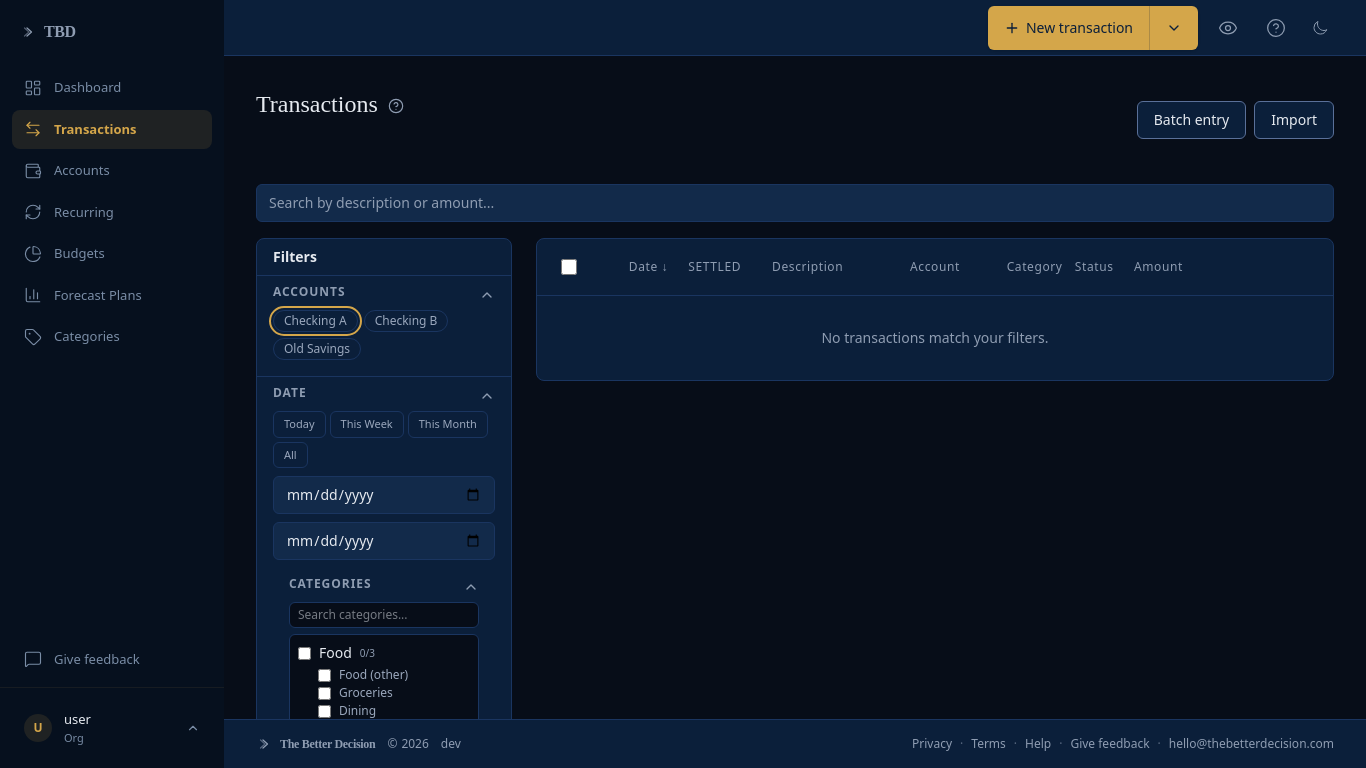
Test case: TransactionsPage — filter side panel (TBD-464) › keeps the panel mounted and focus on the control while the list refetches
The width and height of the screenshot is (1366, 768).
Expected: the checkbox named "Category Food" is shown, [298, 646, 311, 660]
Click the button with aria-label "Account Checking A".
click(315, 321)  # box [273, 310, 358, 332]
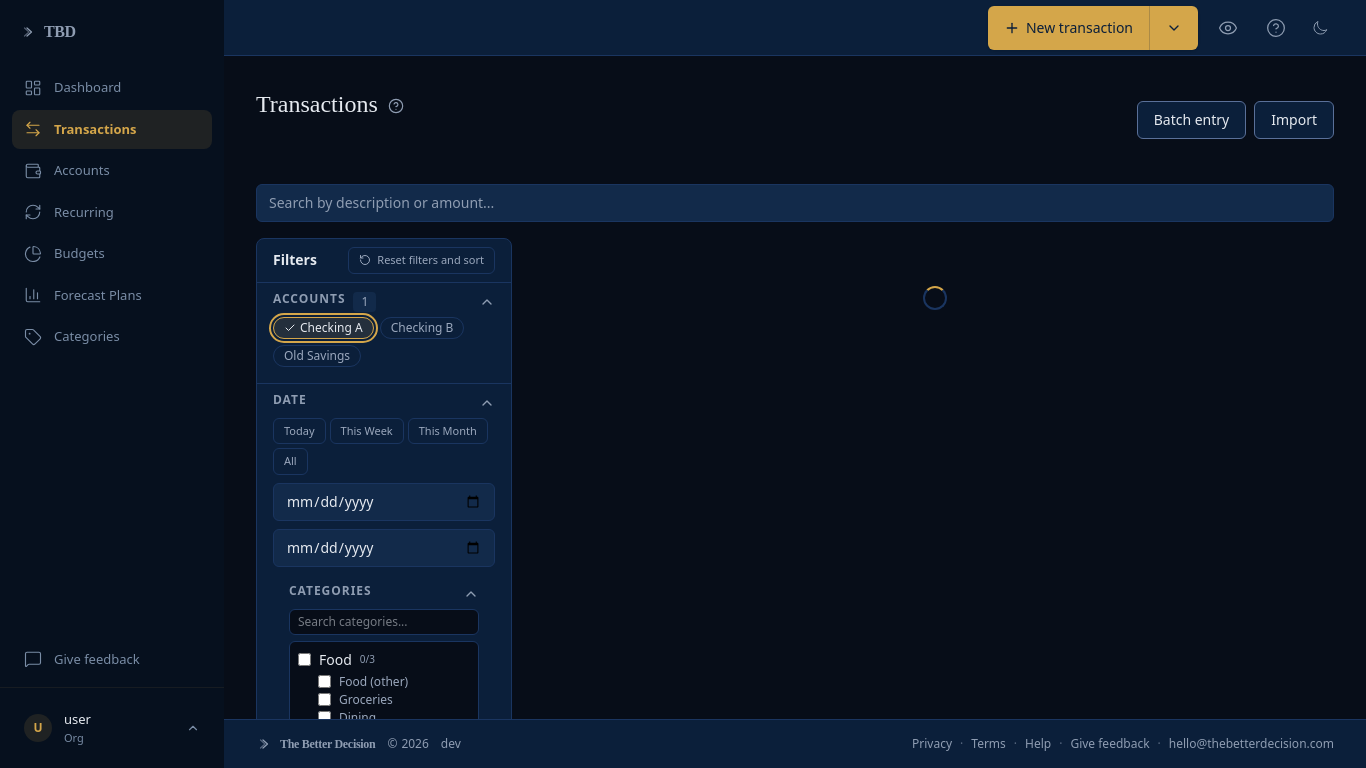
Now the message named "Loading" is shown, box [923, 286, 947, 310]
